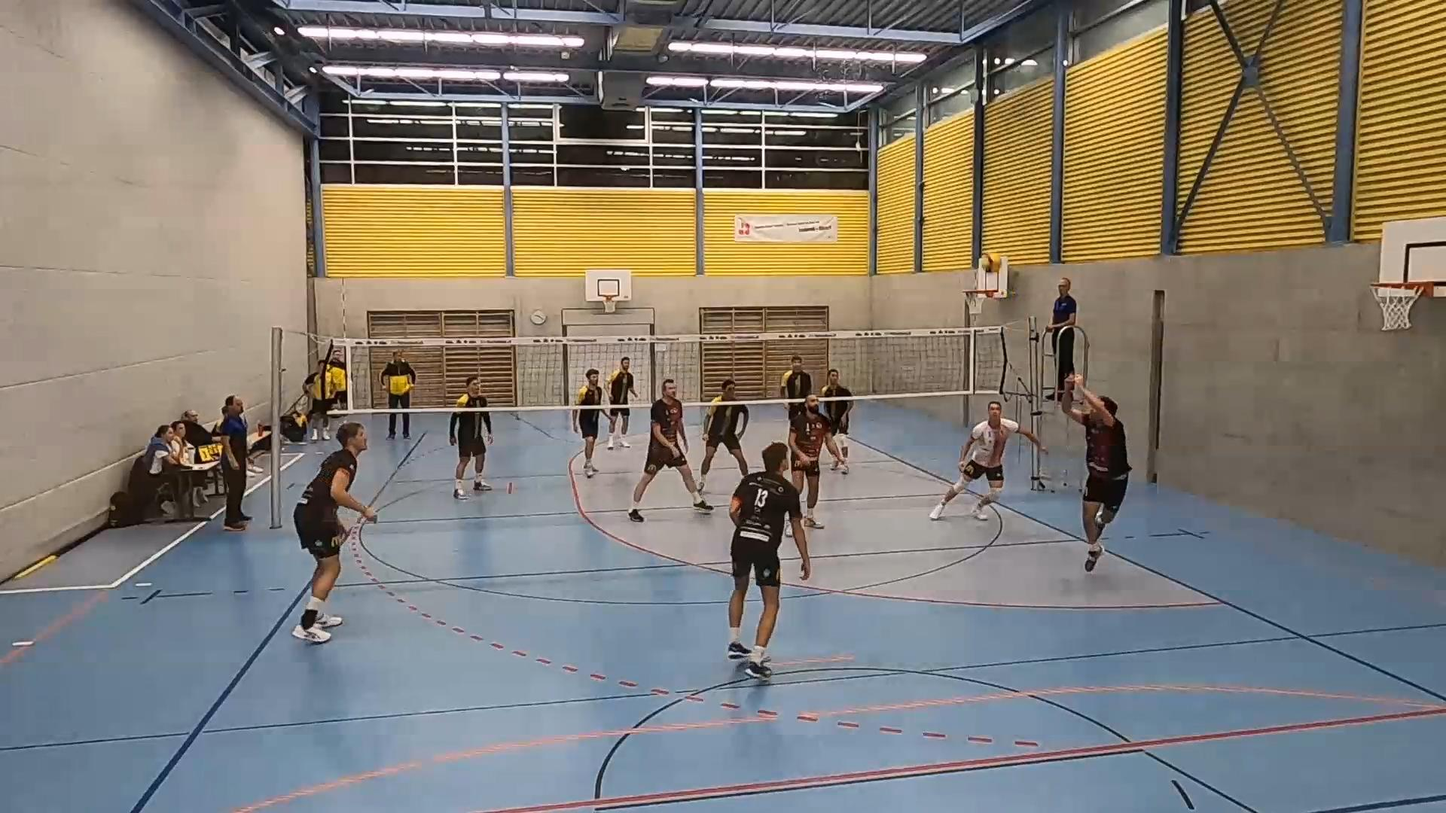difesa: (1056, 382, 1141, 575)
